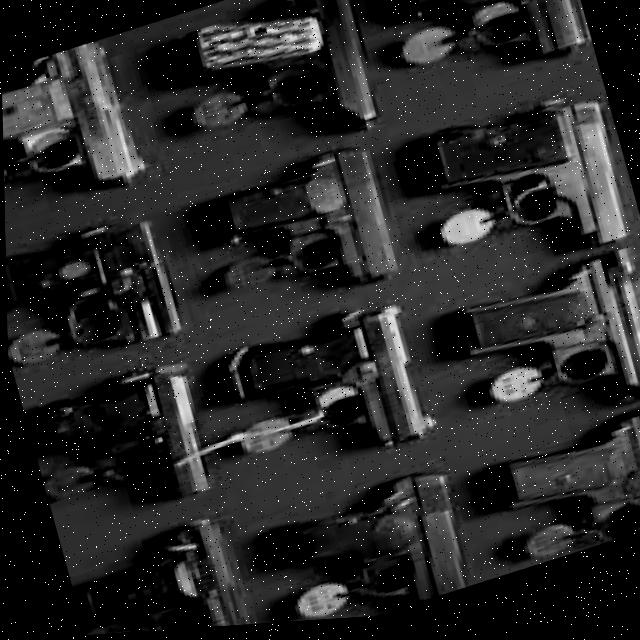pistol: (212, 293, 441, 498), (418, 86, 638, 298), (444, 251, 640, 460), (172, 0, 384, 181), (206, 141, 406, 332), (21, 353, 220, 541), (4, 207, 193, 391), (273, 465, 480, 626), (1, 33, 156, 236), (487, 407, 640, 578), (60, 509, 260, 637), (389, 0, 593, 107)
